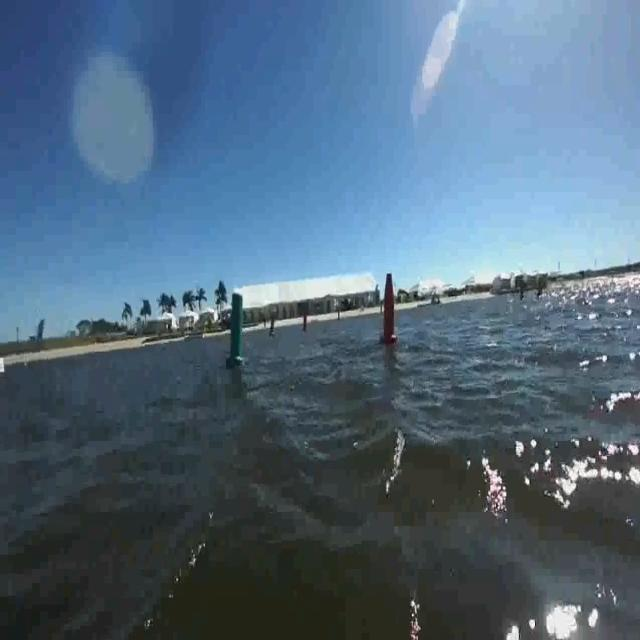green-column-buoy: (228, 292, 248, 369)
red-column-buoy: (379, 270, 399, 346), (302, 310, 310, 332)
